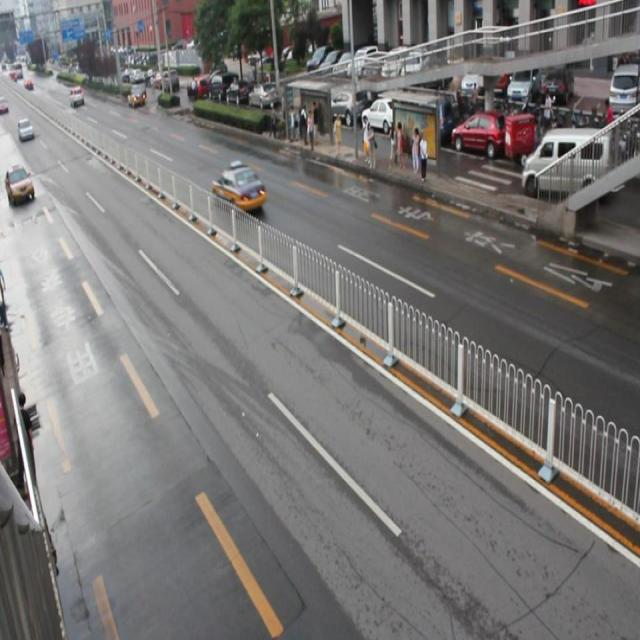car: (211, 160, 266, 212), (1, 166, 34, 203)
